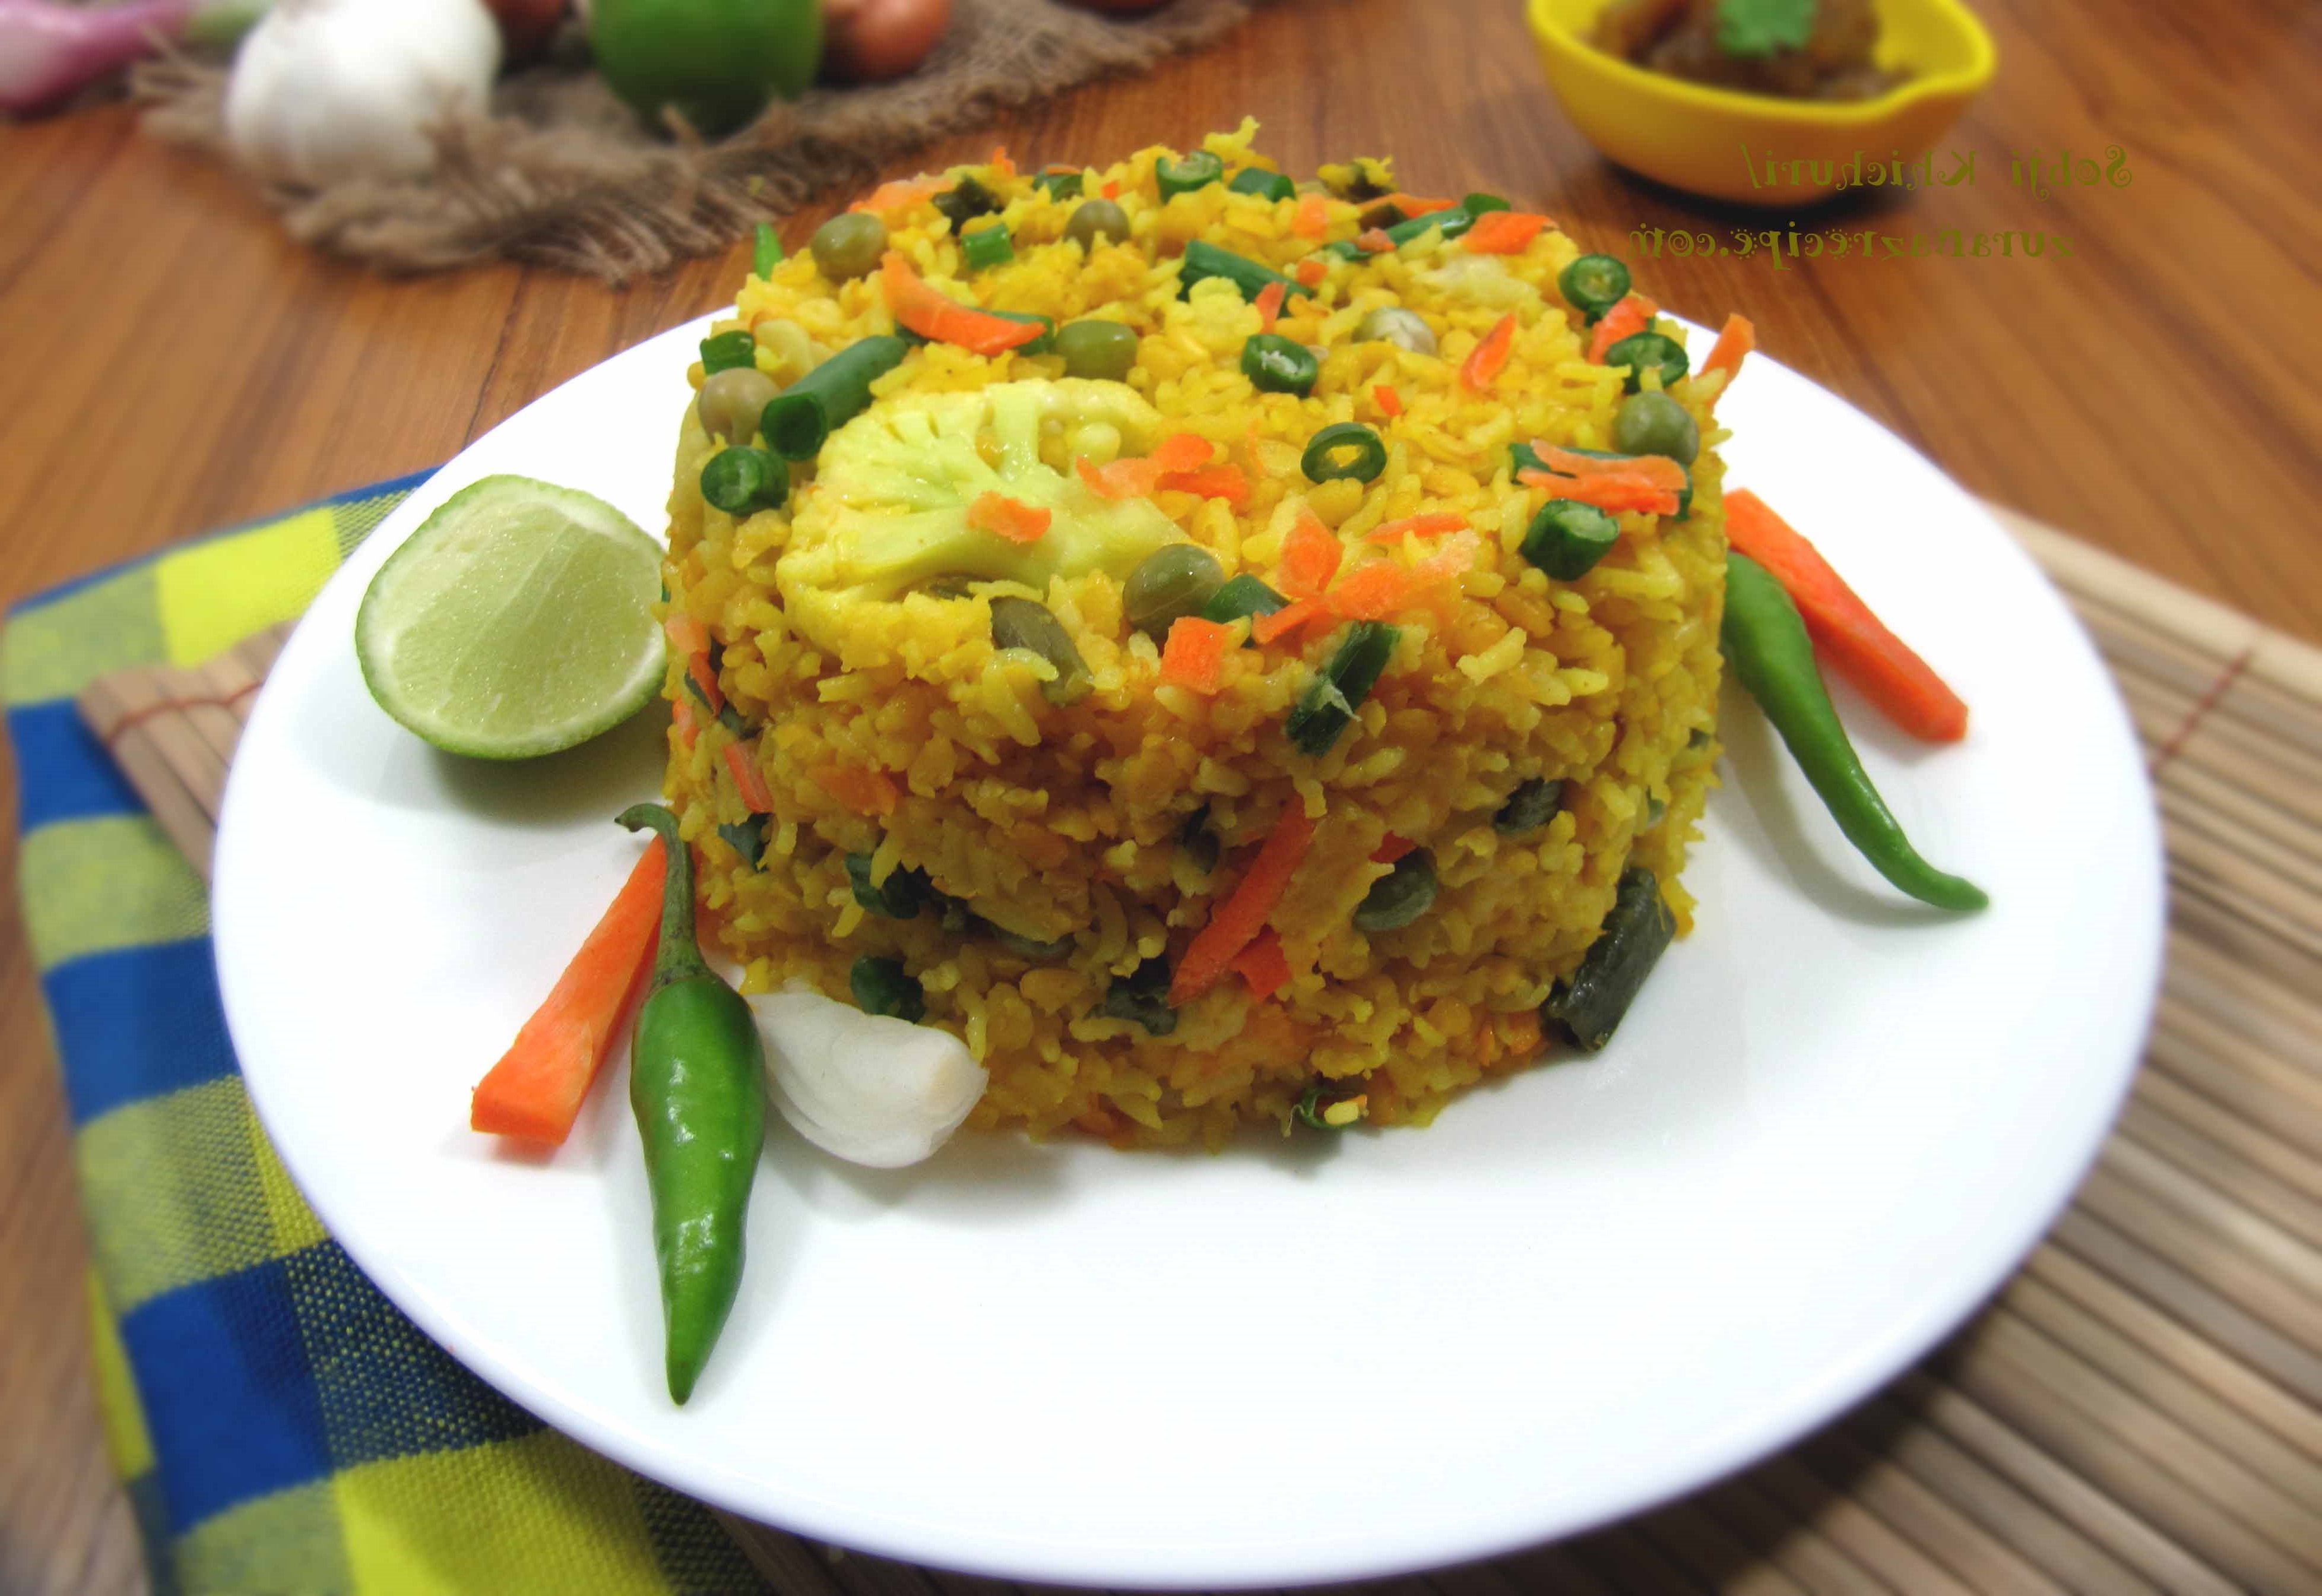khichuri: (669, 145, 1734, 1123)
